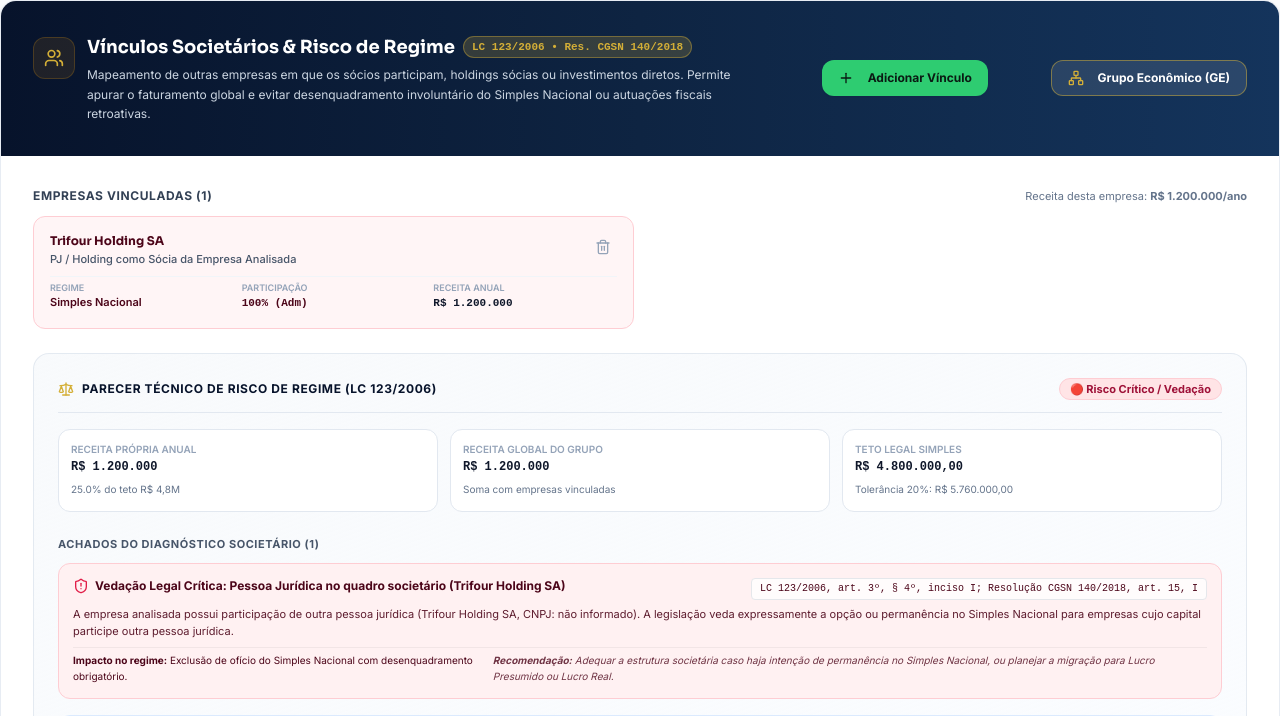
Vínculos Societários — submit aninhado e stale closure › remover vínculo reflete a lista sem o item (consolidação correta no estado)
Later steps or results of the test are not shown.
Expected: the text "Trifour Holding SA" is shown, [50,233,164,249]
Click the button titled "Remover este vínculo" at {"x": 603, "y": 247}, box [589,233,617,261]
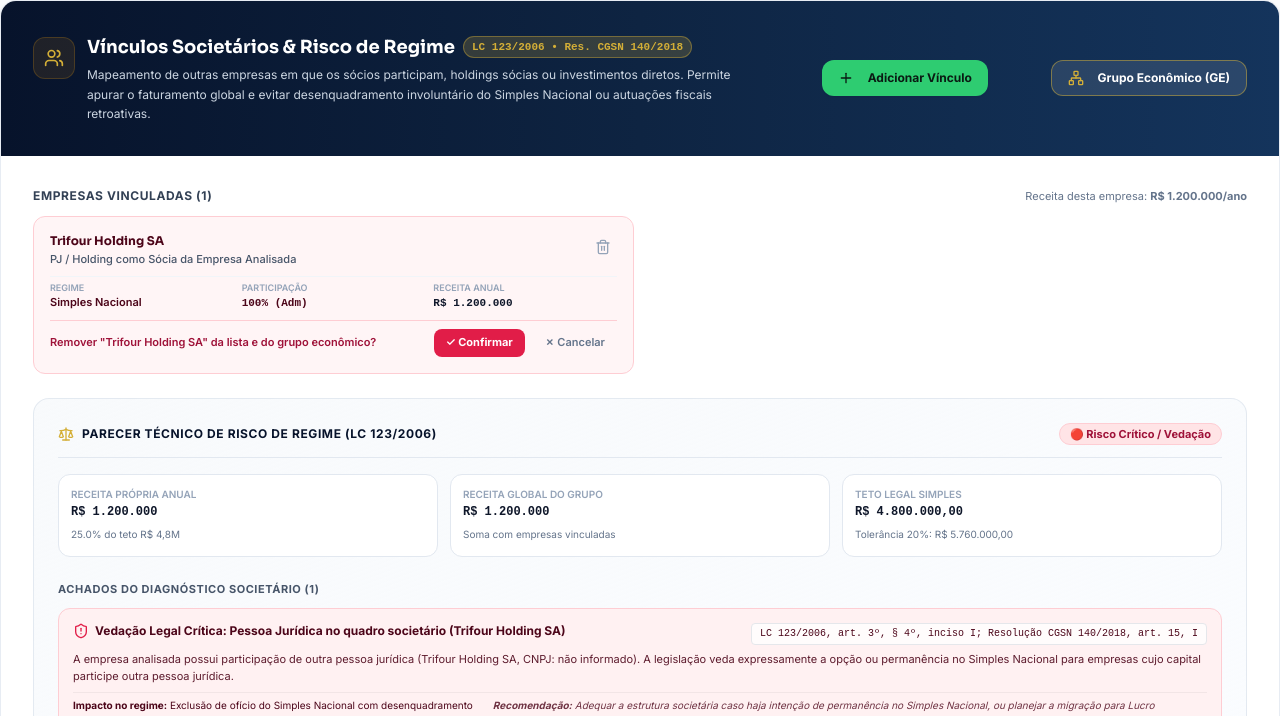
Now the text "Remover \"Trifour Holding SA\" da lista e do grupo econômico?" is shown, box [50,335,376,350]
